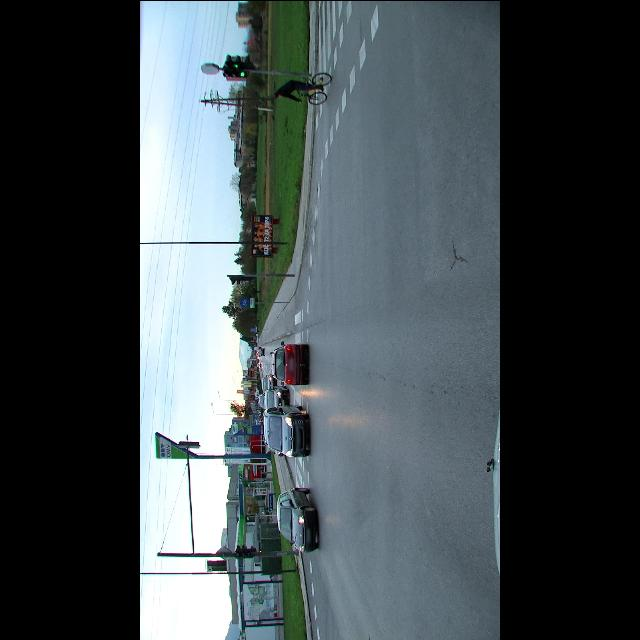Rectangle: (250, 296, 254, 308)
Round: (238, 296, 250, 306)
